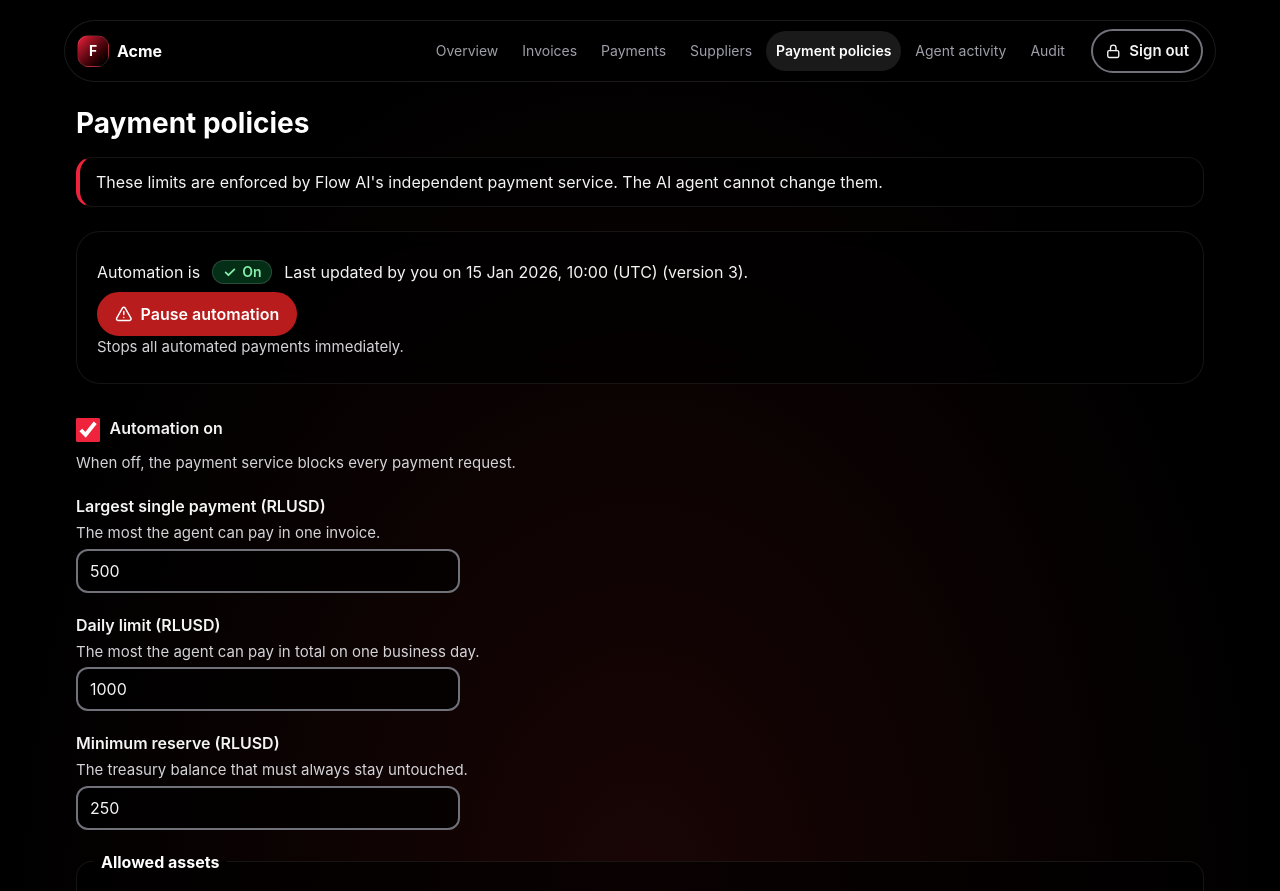
Test case: keyboard-only journeys › policy: save journey by keyboard confirms, sends CSRF + If-Match + confirm_risky, and announces the result
Replace the text in the field labelled "Daily limit (RLUSD)" with "2000" at (268, 689), box [76,667,460,711]
(page scrolled)
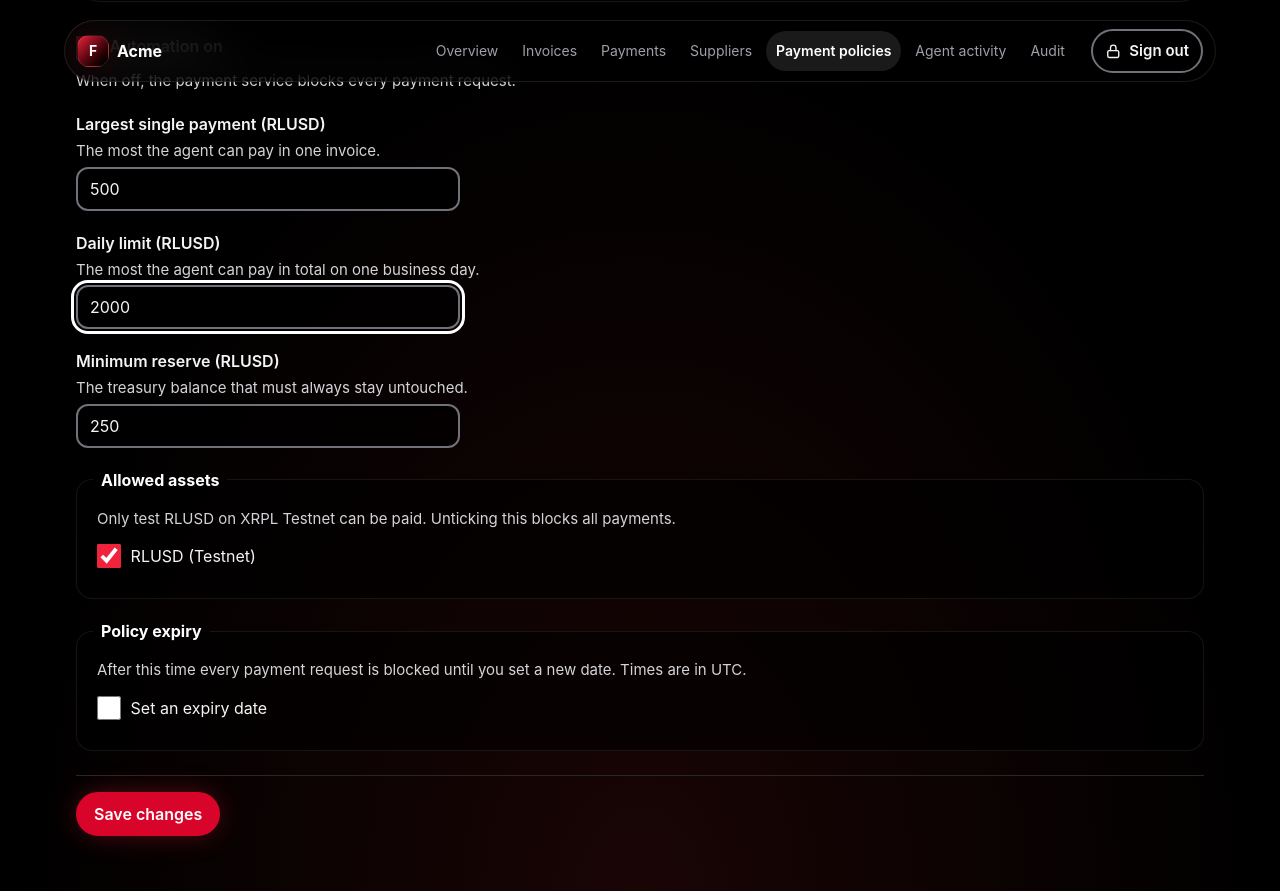
Click the button "Save changes" at (148, 814), box [76,792,220,836]
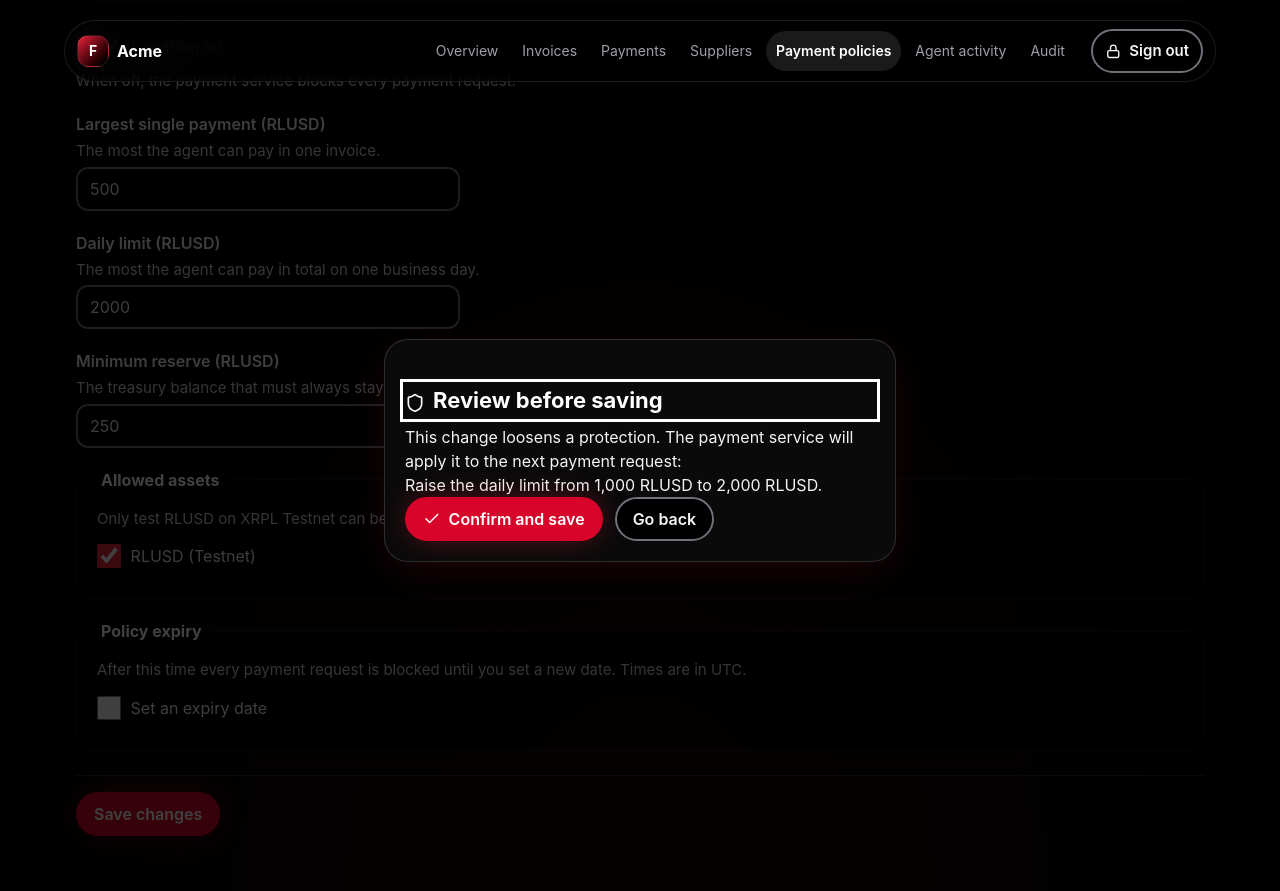
Expected: the dialog is shown, [384,338,896,562]
Press Tab
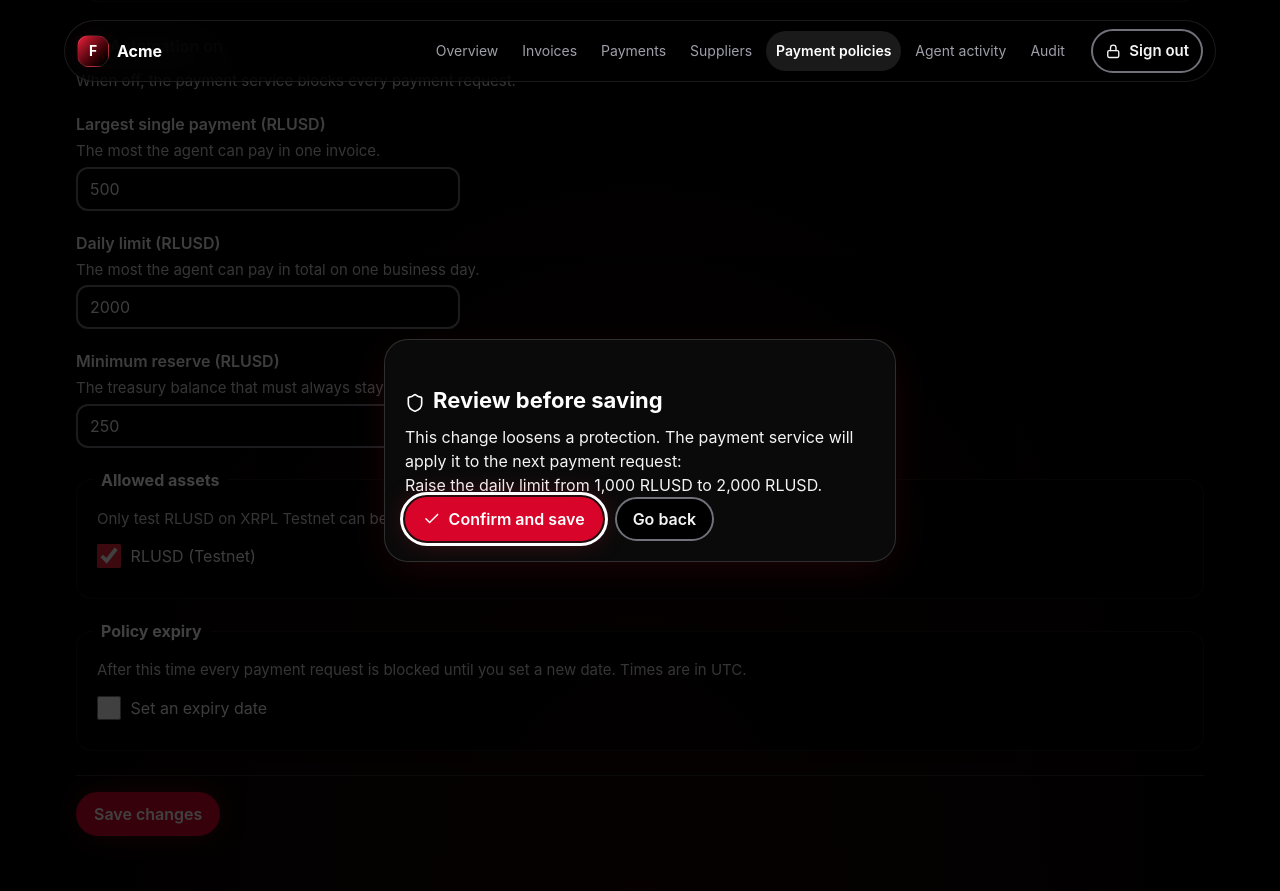
Press Enter
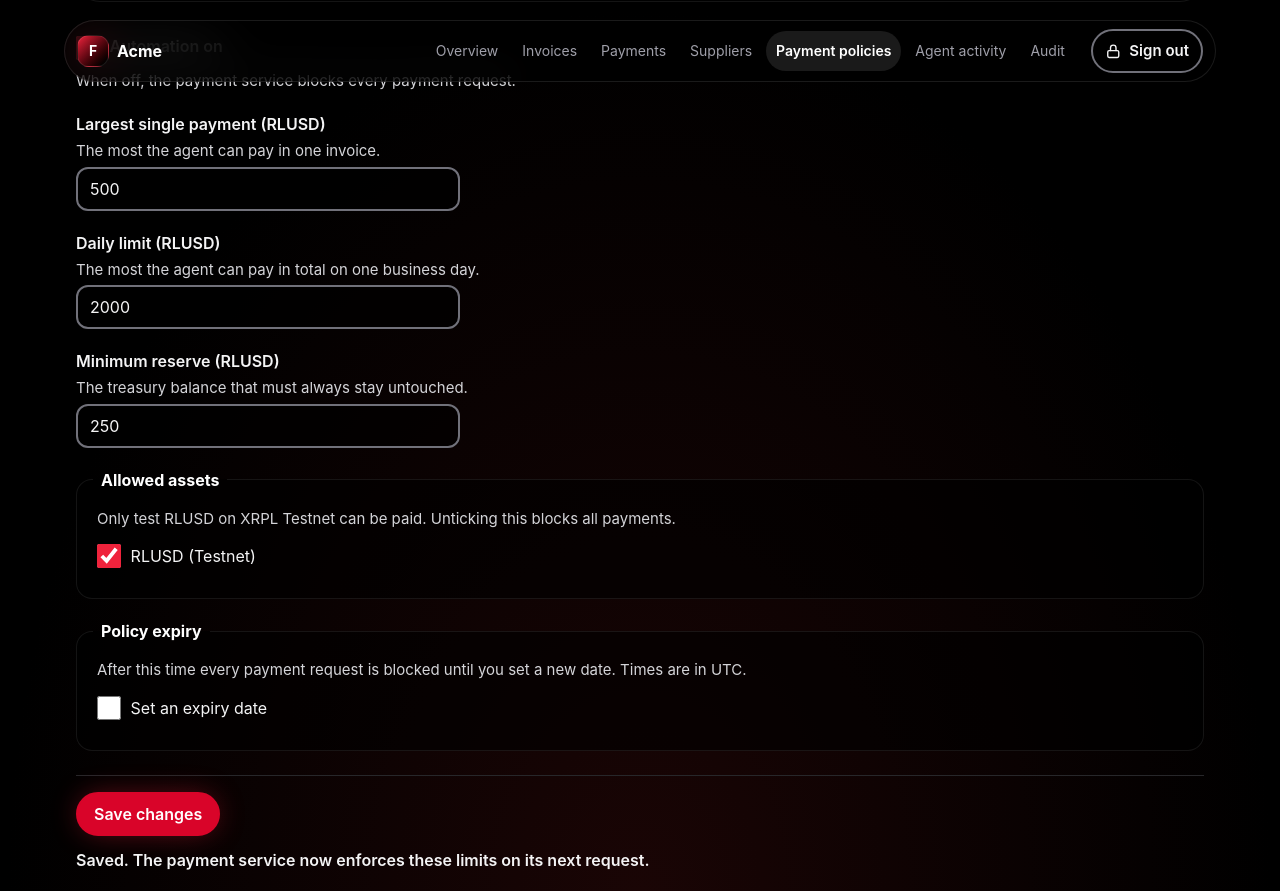
Expected: the message shows "Saved.", [76,850,650,870]
Expected: the dialog is gone
